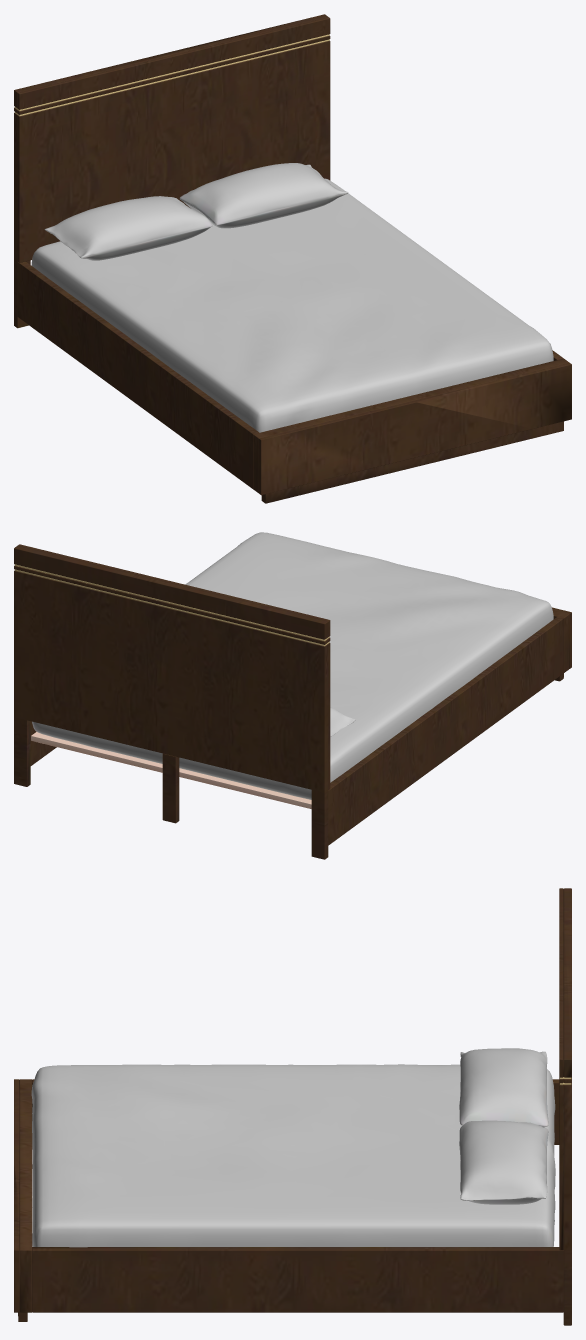
File: B0719SNKSY.glb
3 renders of one model, top to bottom at view 1: azimuth 30°, elevation 25°; view 2: azimuth 150°, elevation 25°; view 3: azimuth 270°, elevation 25°, orthographic. The views are drawn at different scales.
Parts seen in each view (by area): view 1: RootNode; view 2: RootNode; view 3: RootNode.
Boxes of the visible parts, x1,y1,x2,y2 form: RootNode: (14,14,571,503); RootNode: (14,532,571,859); RootNode: (14,888,571,1325).
Bounding box in the file's own units: 1.61 × 1.17 × 2.22.
1 material, 1 textured.
